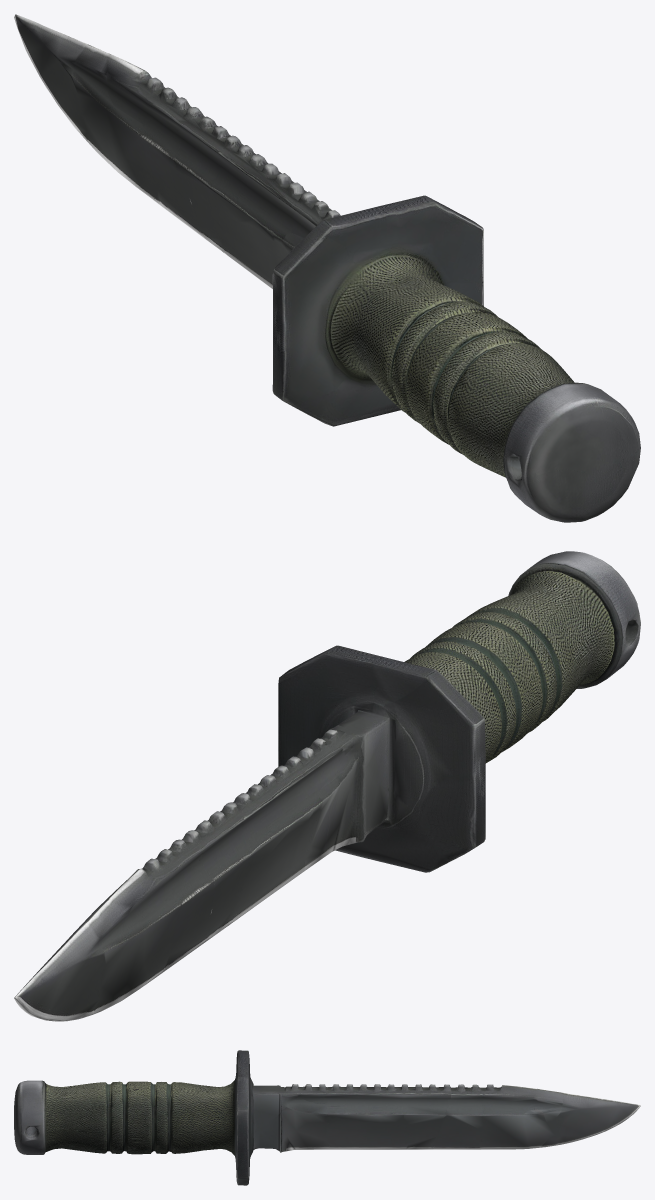
Rendered from knife-user.glb.
The picture shows the model from 3 angles, top to bottom: view 1: azimuth 30°, elevation 25°; view 2: azimuth 150°, elevation 25°; view 3: azimuth 270°, elevation 25°; orthographic projection. The views are drawn at different scales.
Visible parts, largest first — view 1: knife; view 2: knife; view 3: knife.
Boxes of the visible parts, bbox=[...] form: knife: bbox=[14, 14, 640, 522]; knife: bbox=[14, 551, 640, 1021]; knife: bbox=[14, 1050, 640, 1185].
Size of the model in its own units: 0.0644 by 0.0613 by 0.3199.
1 material, 1 textured.
